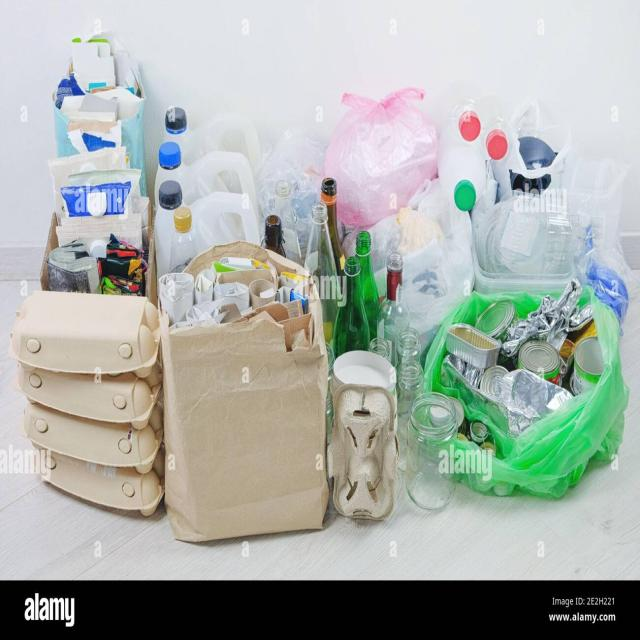cardboard: (182, 334, 321, 531)
glass: (345, 254, 374, 340)
metal: (472, 326, 594, 384)
paper: (53, 60, 135, 273), (183, 275, 292, 323)
plastic: (369, 126, 582, 250), (28, 311, 150, 504), (166, 108, 243, 241), (406, 416, 459, 511)
